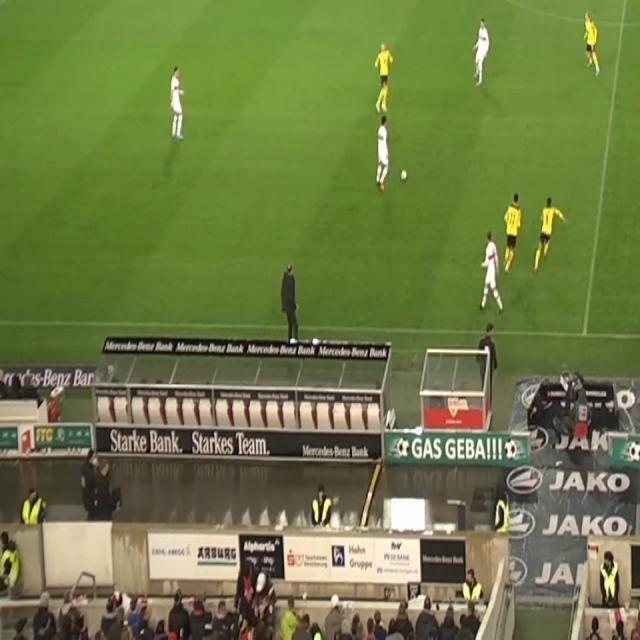ball: (400, 168, 408, 183)
